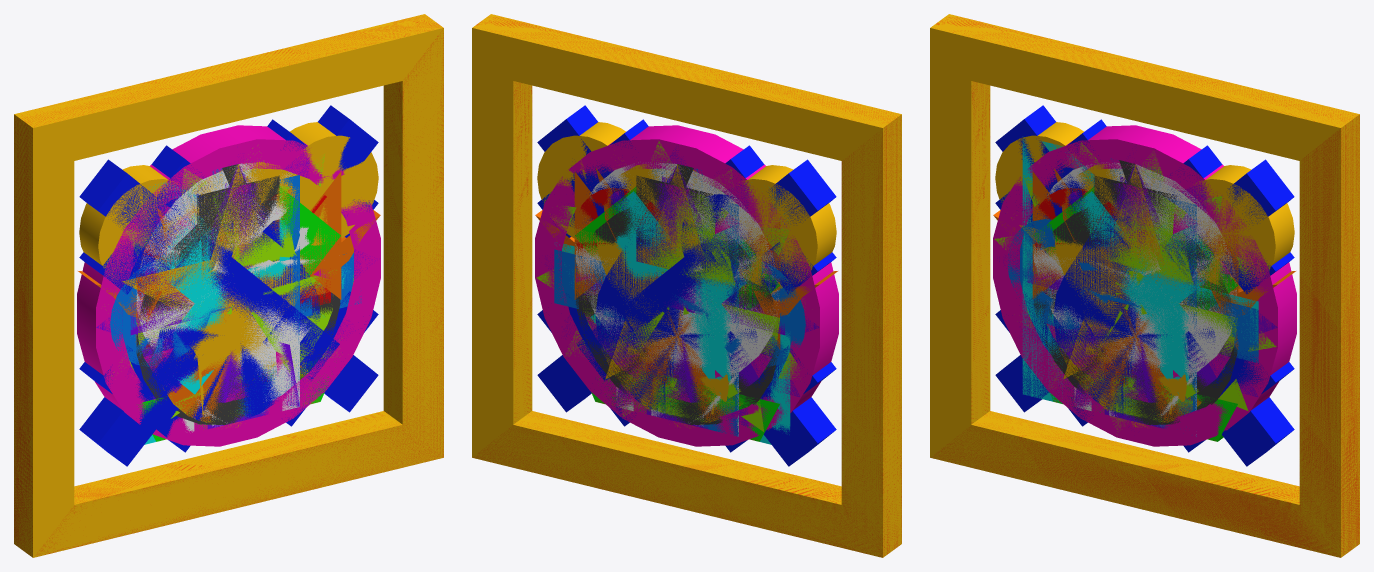
The model's file is setB.fbx.
3 renders of one model, left to right at view 1: azimuth 30°, elevation 25°; view 2: azimuth 150°, elevation 25°; view 3: azimuth 330°, elevation 25°, orthographic.
Visible parts, largest first — view 1: powerup_01, powerup_07, powerup_24, powerup_18, powerup_04, powerup_13, powerup_03, powerup_05, powerup_22, powerup_21, powerup_10, powerup_06 (+11 smaller); view 2: powerup_01, powerup_07, powerup_24, powerup_18, powerup_13, powerup_04, powerup_03, powerup_05, powerup_21, powerup_14, powerup_15, powerup_10 (+11 smaller); view 3: powerup_01, powerup_24, powerup_07, powerup_18, powerup_04, powerup_13, powerup_21, powerup_03, powerup_10, powerup_14, powerup_15, powerup_22 (+11 smaller).
Boxes of the visible parts, x1,y1,x2,y2 form: powerup_01: [14, 14, 443, 557]; powerup_07: [77, 125, 380, 446]; powerup_24: [14, 15, 443, 556]; powerup_18: [79, 105, 378, 466]; powerup_04: [136, 163, 315, 432]; powerup_13: [79, 122, 378, 427]; powerup_03: [136, 164, 340, 424]; powerup_05: [133, 194, 339, 380]; powerup_22: [181, 161, 309, 414]; powerup_21: [157, 167, 320, 420]; powerup_10: [156, 213, 324, 394]; powerup_06: [110, 252, 361, 366]; powerup_01: [472, 14, 901, 557]; powerup_07: [535, 125, 838, 446]; powerup_24: [473, 15, 901, 557]; powerup_18: [537, 105, 836, 466]; powerup_13: [537, 122, 836, 428]; powerup_04: [575, 162, 779, 436]; powerup_03: [575, 164, 779, 424]; powerup_05: [576, 194, 781, 381]; powerup_21: [595, 166, 757, 416]; powerup_14: [539, 146, 819, 426]; powerup_15: [535, 168, 837, 422]; powerup_10: [590, 191, 752, 393]; powerup_01: [930, 14, 1359, 557]; powerup_24: [931, 17, 1359, 557]; powerup_07: [993, 125, 1296, 446]; powerup_18: [995, 105, 1294, 466]; powerup_04: [1033, 162, 1236, 436]; powerup_13: [995, 122, 1294, 427]; powerup_21: [1053, 167, 1215, 416]; powerup_03: [1033, 160, 1237, 424]; powerup_10: [1048, 191, 1210, 393]; powerup_14: [997, 148, 1277, 427]; powerup_15: [993, 166, 1295, 422]; powerup_22: [1054, 164, 1199, 414].
Bounding box in the file's own units: 1 × 1 × 0.08.
